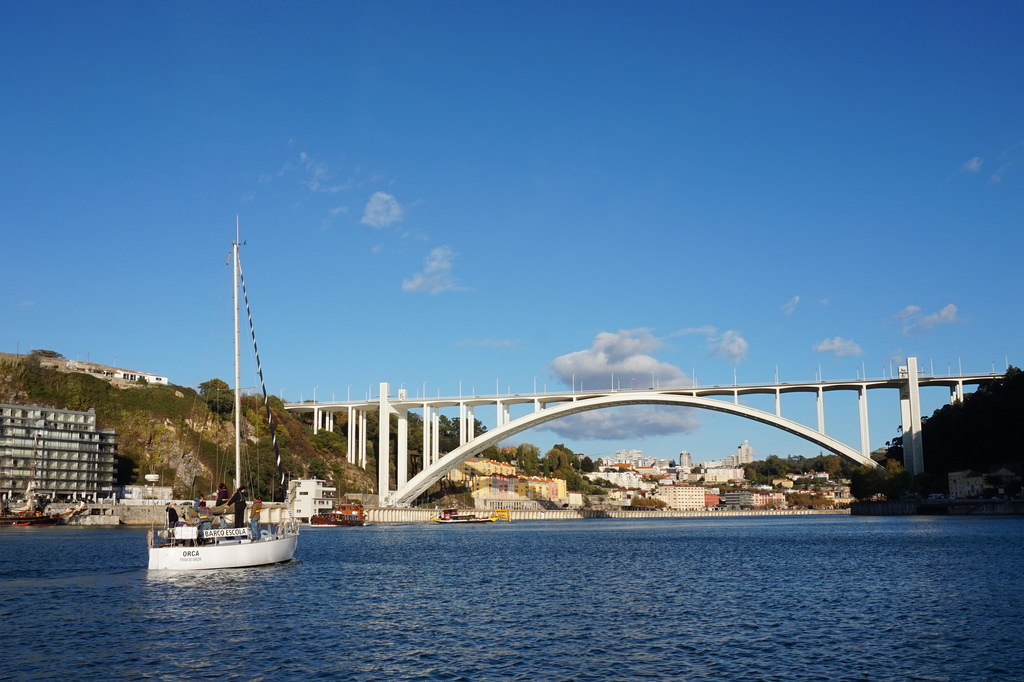arrabida: (283, 355, 1008, 509)
